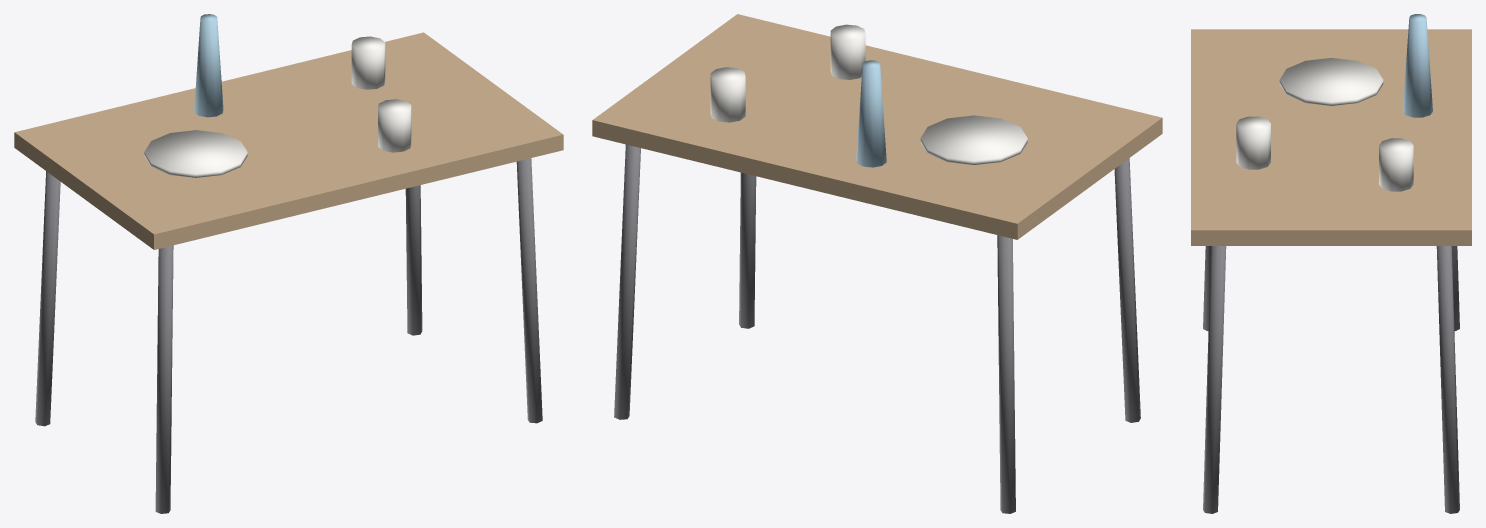
File: camp_table.glb
The picture shows the model from 3 angles, left to right: view 1: azimuth 30°, elevation 25°; view 2: azimuth 150°, elevation 25°; view 3: azimuth 270°, elevation 25°; orthographic projection. The views are drawn at different scales.
Visible parts, largest first — view 1: camp_table; view 2: camp_table; view 3: camp_table.
Boxes of the visible parts, x1=… form: camp_table: x1=14, y1=14, x2=563, y2=513; camp_table: x1=592, y1=14, x2=1162, y2=513; camp_table: x1=1191, y1=14, x2=1471, y2=513.
Size of the model in its own units: 1.1 by 0.9807 by 0.65.
